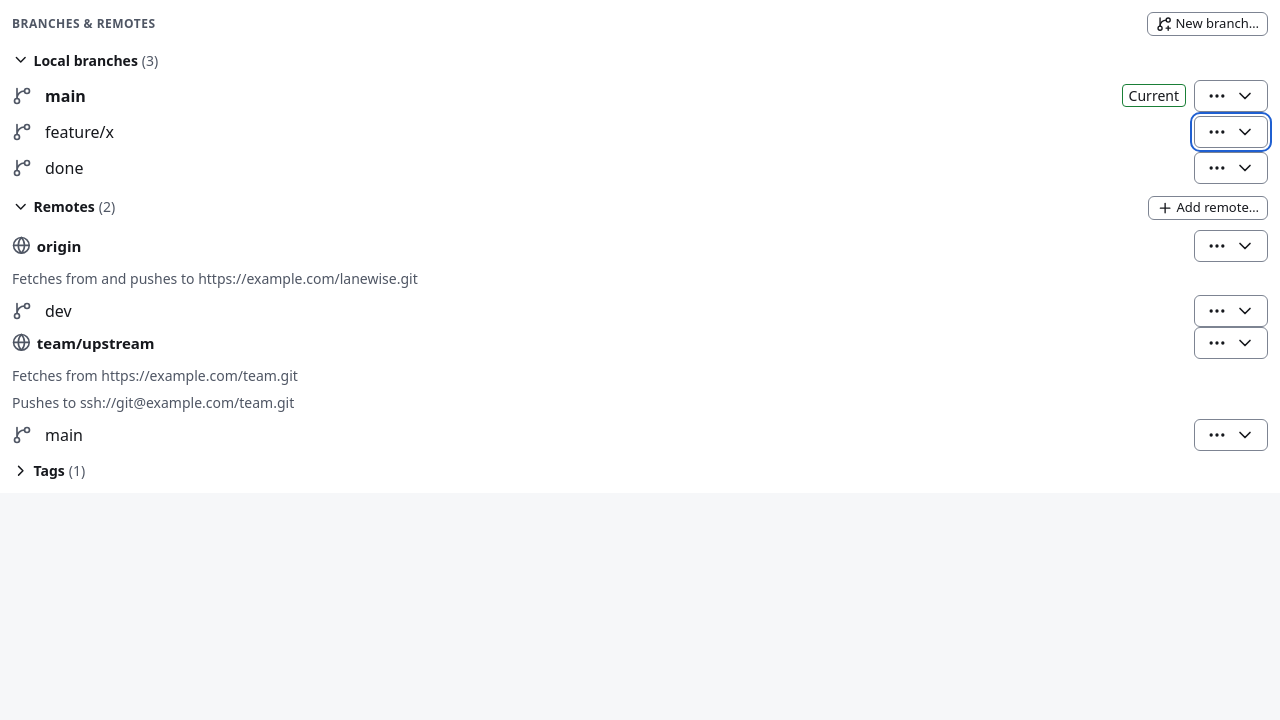
Test case: a branch renamed from its menu keeps focus on it, under its new name
This screenshot has width=1280, height=720.
expect the button named "Actions for feature/x" is shown: met, box 1194,116 -> 1268,148
Press Enter
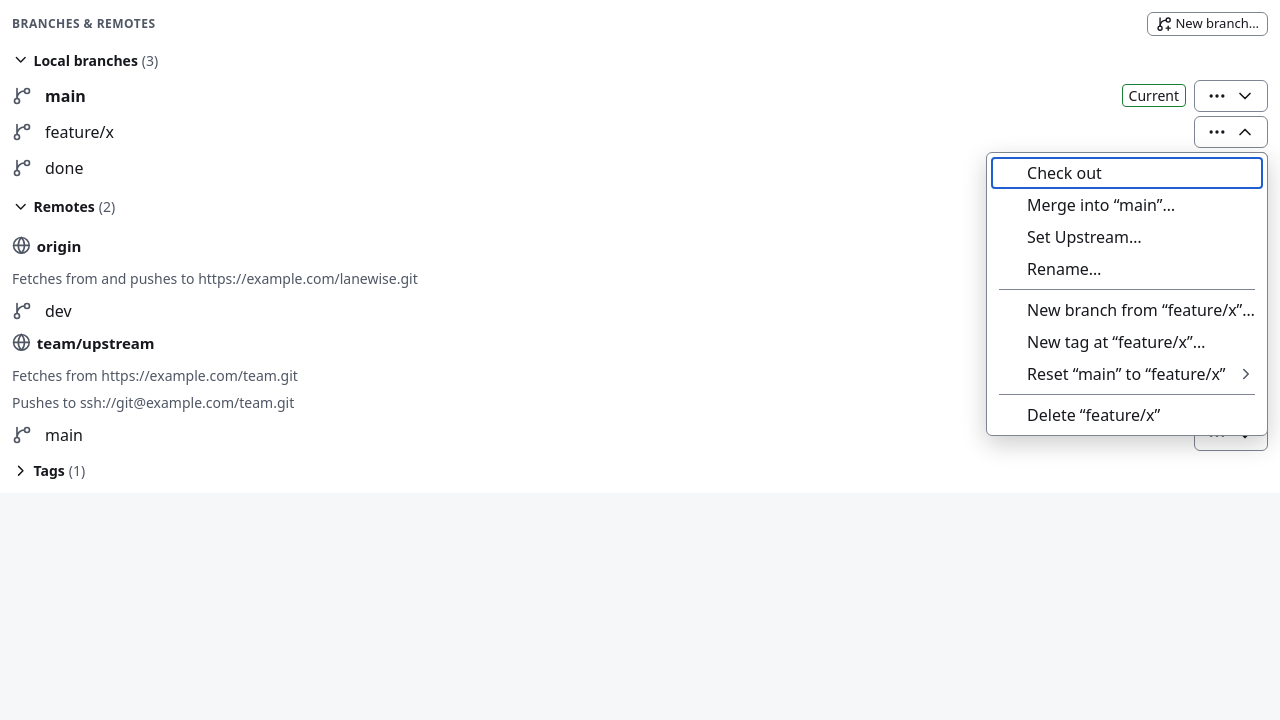
Press Arrowdown
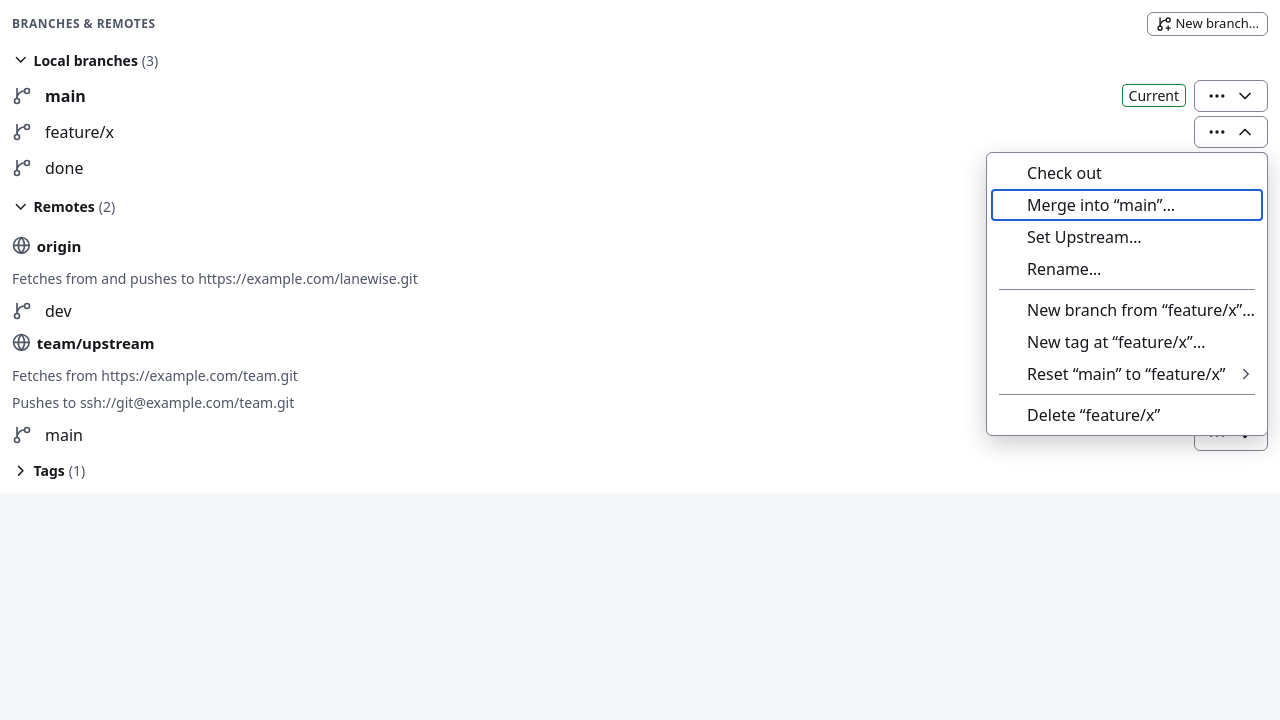
Press Arrowdown
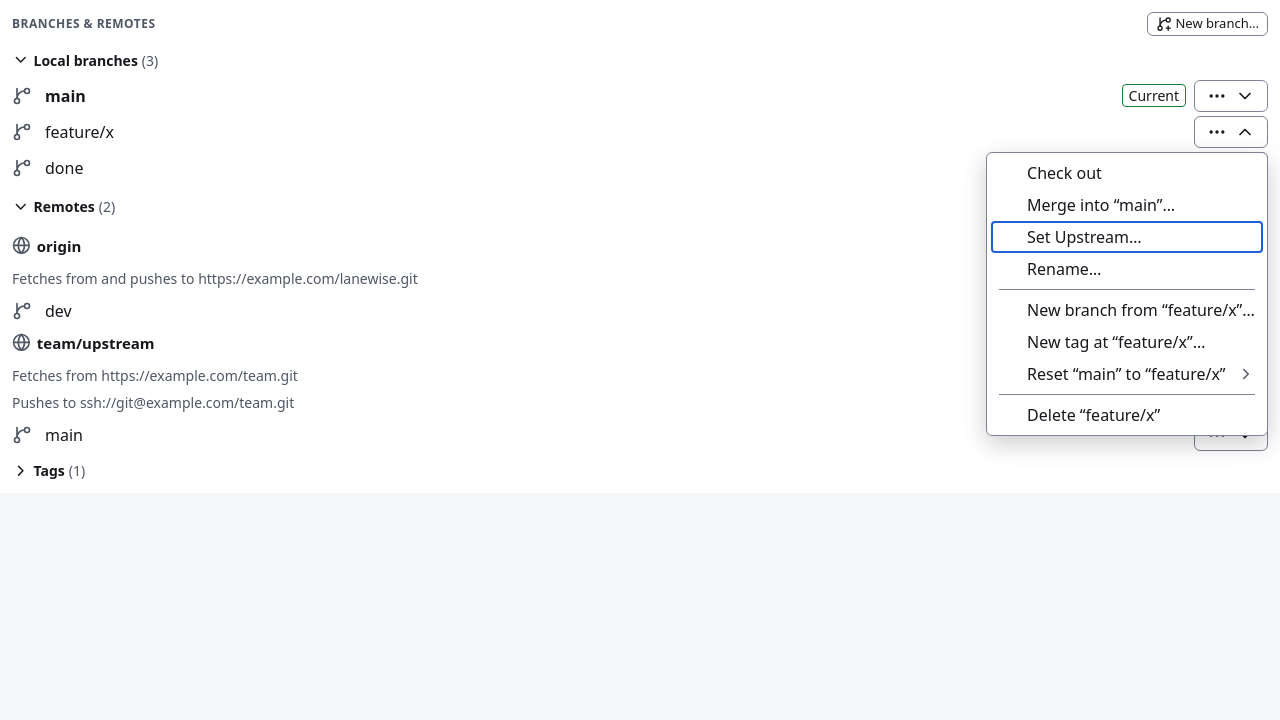
Press Arrowdown
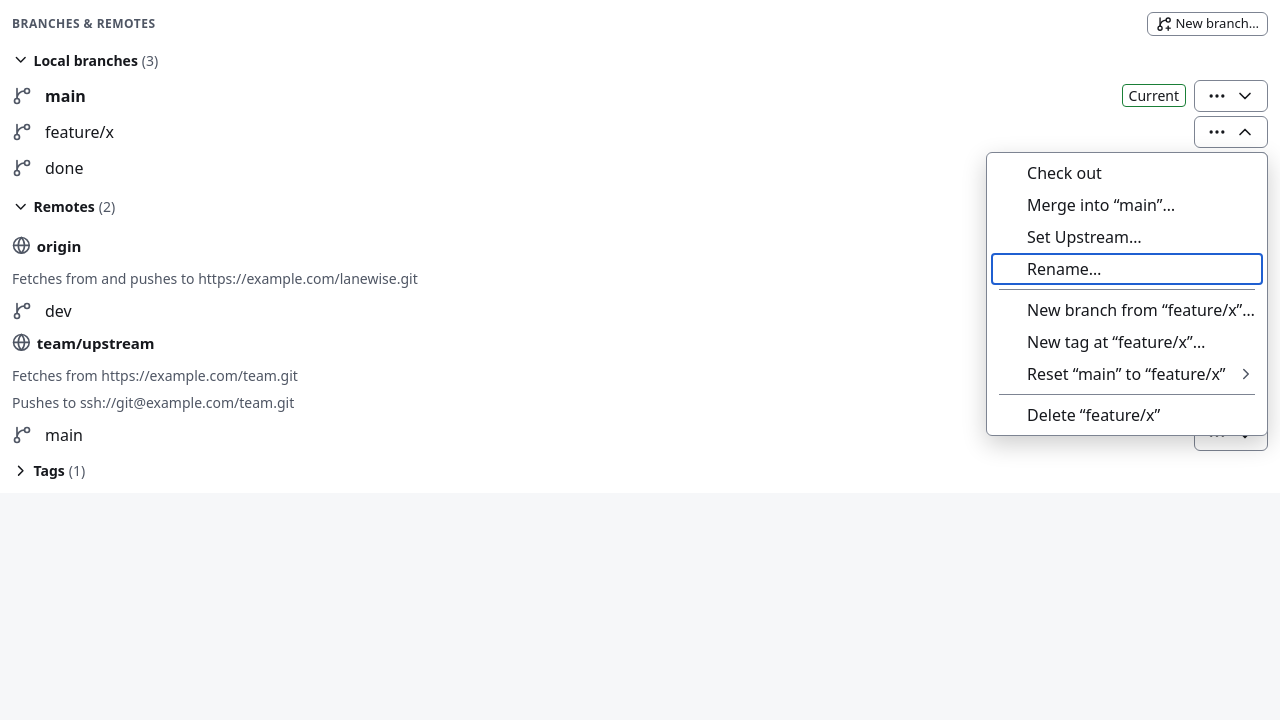
Press Enter
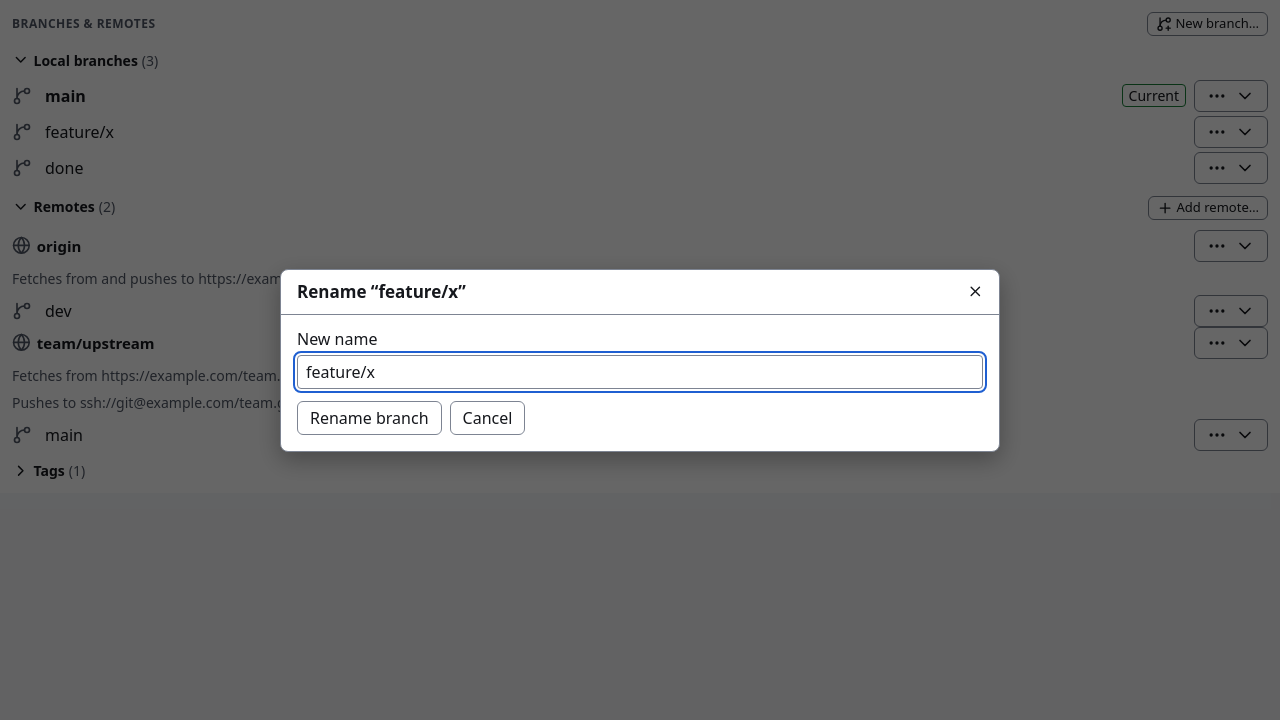
expect the field labelled "New name" holds "feature/x": met
Clear the field labelled "New name" at point(640, 372), box 297,354 -> 983,388
Type keys "feature/y{Enter}"
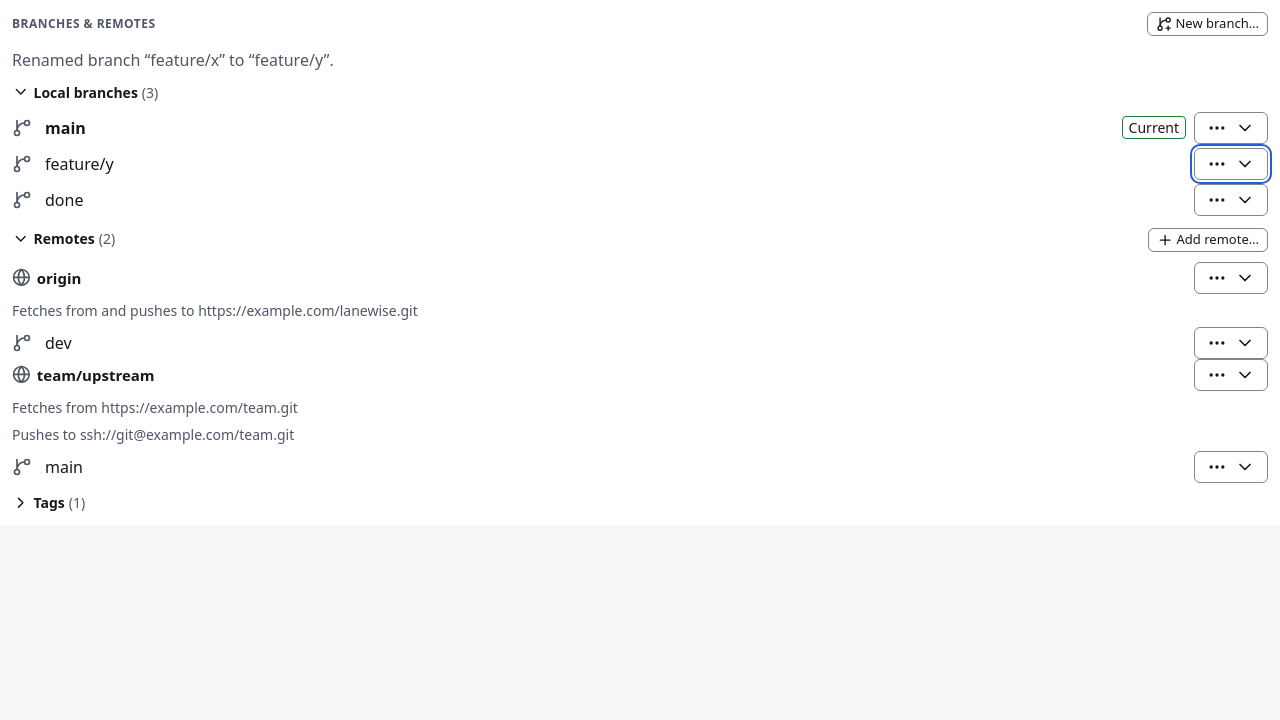
expect the text "Renamed branch “feature/x” to “feature/y”." is shown: met, box 12,49 -> 334,71
